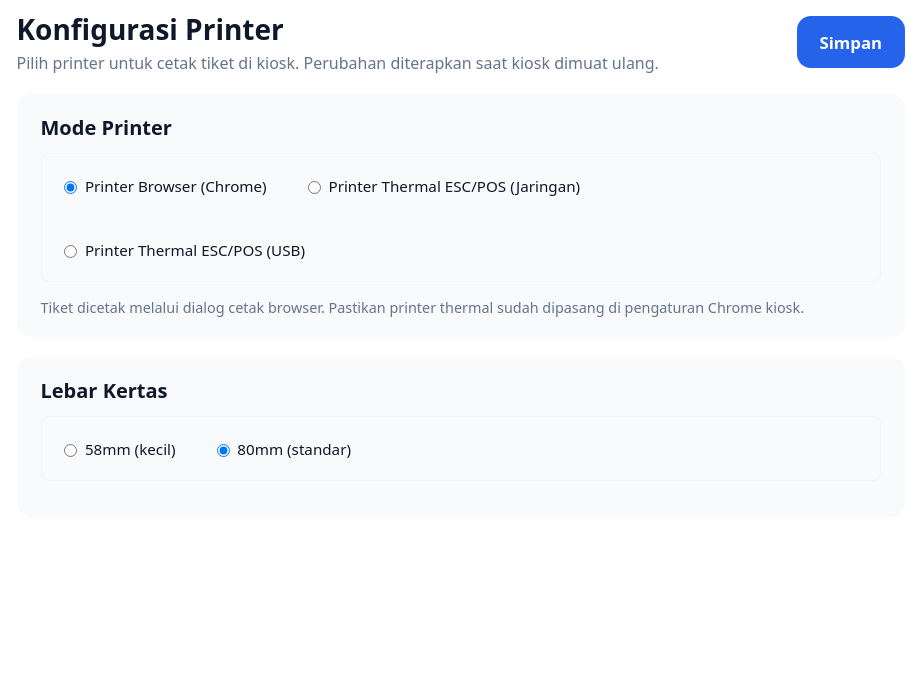
it: PrinterConfigPage › toggling to network-escpos reveals the host/port/cut fields
The width and height of the screenshot is (922, 691).
Expected: the radio button with test id "printer-mode--chrome" is shown, [64,181,77,194]
Click the radio button with test id "printer-mode--network-escpos" at {"x": 314, "y": 187}, box [308,181,321,194]
(page scrolled)
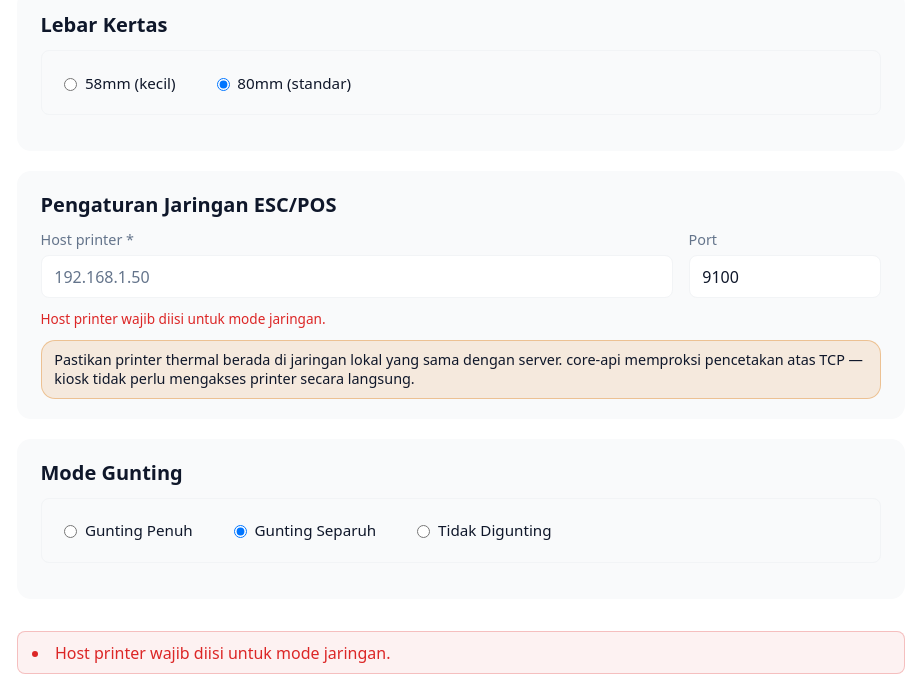
Expected: the element with test id "printer-network-section" is shown, [16,171,904,419]
Expected: the field with test id "printer-host" is shown, [40,255,672,298]
Expected: the number field with test id "printer-port" is shown, [688,255,880,298]
